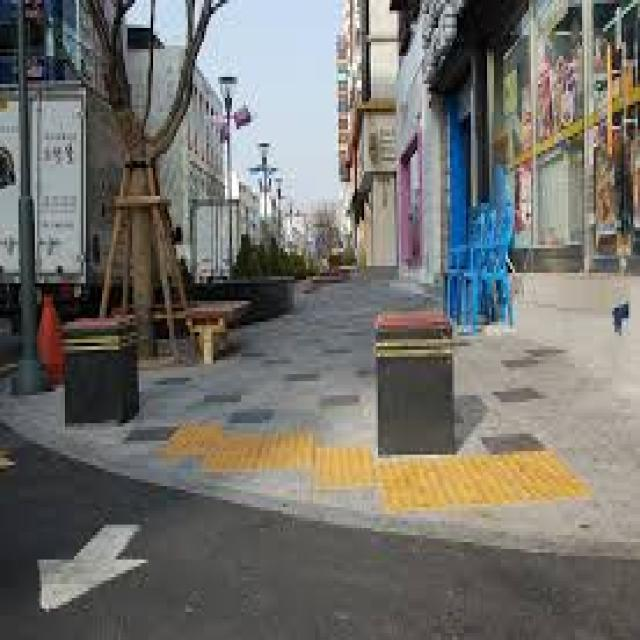bollard: (369, 299, 466, 462), (57, 306, 146, 429)
